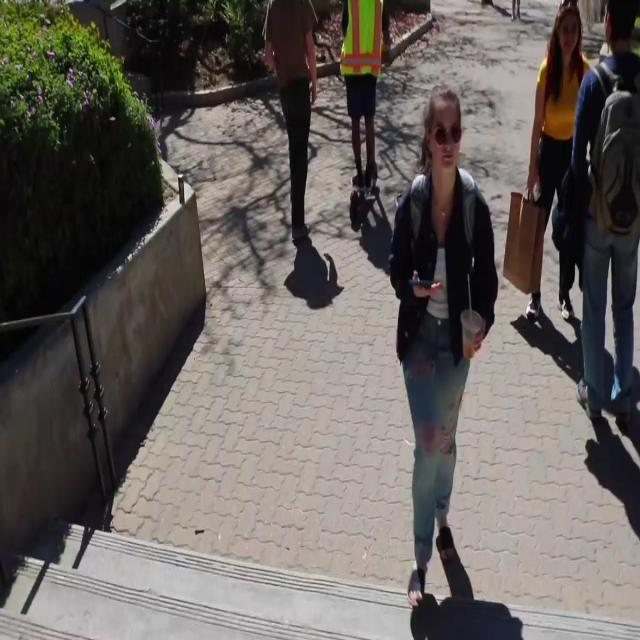Vest: (338, 0, 384, 80)
